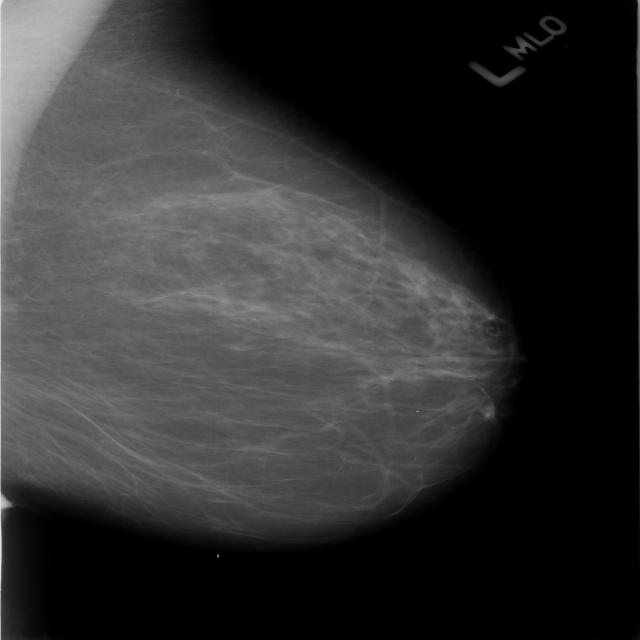cancer: (154, 192, 521, 415)
